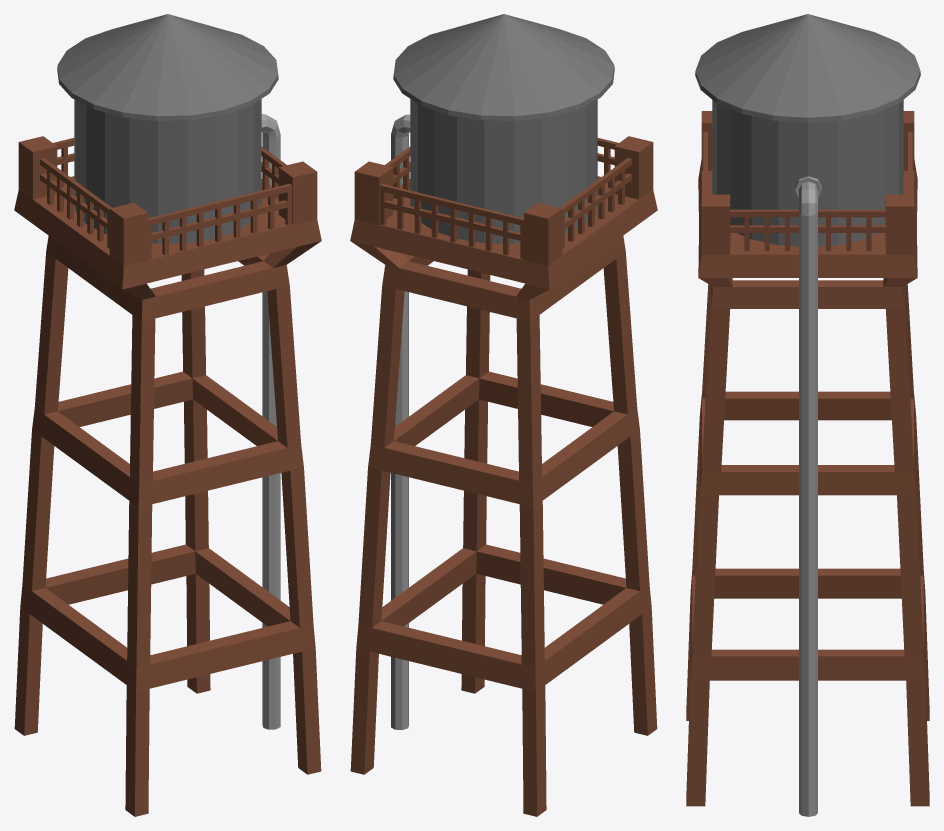
The model's file is water-tower.glb.
3 renders of one model, left to right at view 1: azimuth 30°, elevation 25°; view 2: azimuth 150°, elevation 25°; view 3: azimuth 270°, elevation 25°, orthographic.
Visible parts, largest first — view 1: WaterTower_Cube.006; view 2: WaterTower_Cube.006; view 3: WaterTower_Cube.006.
Part boxes in pixels (<box>): WaterTower_Cube.006: <box>14,14,321,816</box>; WaterTower_Cube.006: <box>350,14,657,816</box>; WaterTower_Cube.006: <box>686,14,929,816</box>.
Size of the model in its own units: 2.53 by 8.43 by 2.49.
